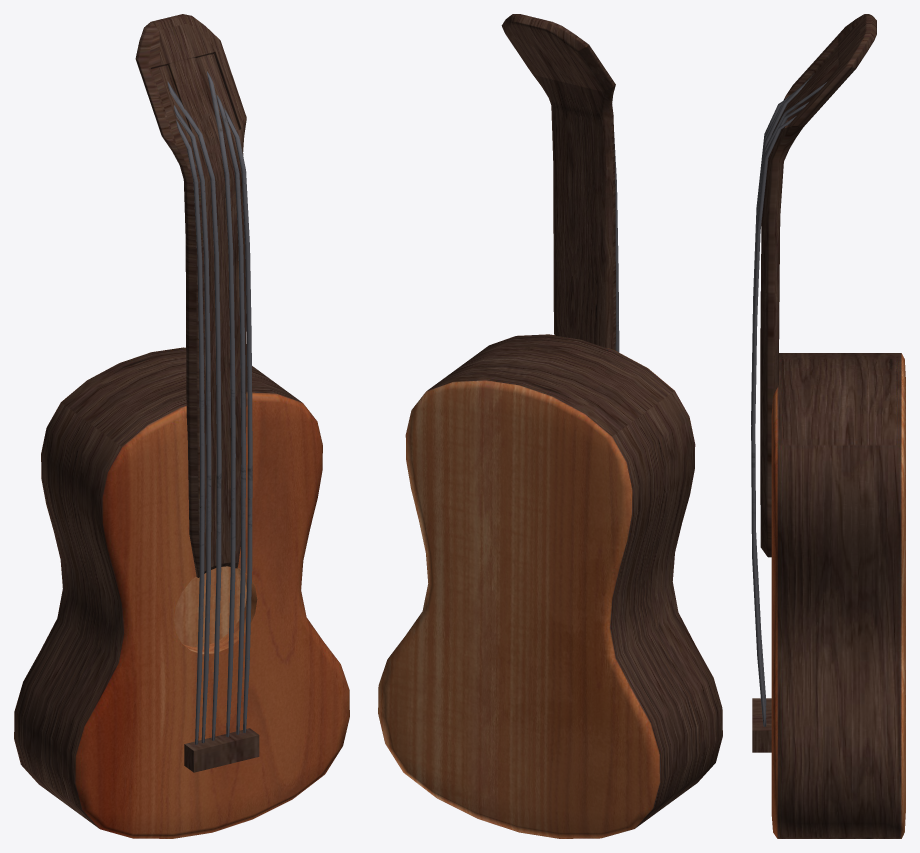
The model's file is Guitarra.fbx.
3 renders of one model, left to right at view 1: azimuth 30°, elevation 25°; view 2: azimuth 150°, elevation 25°; view 3: azimuth 270°, elevation 25°, orthographic. The views are drawn at different scales.
Visible parts, largest first — view 1: pCube15; view 2: pCube15; view 3: pCube15.
Part boxes in pixels (box(x1,y1,x2,y2)): pCube15: box(14, 14, 349, 838); pCube15: box(378, 14, 722, 838); pCube15: box(751, 14, 905, 838).
Bounding box in the file's own units: 39.06 × 106 × 18.82.
